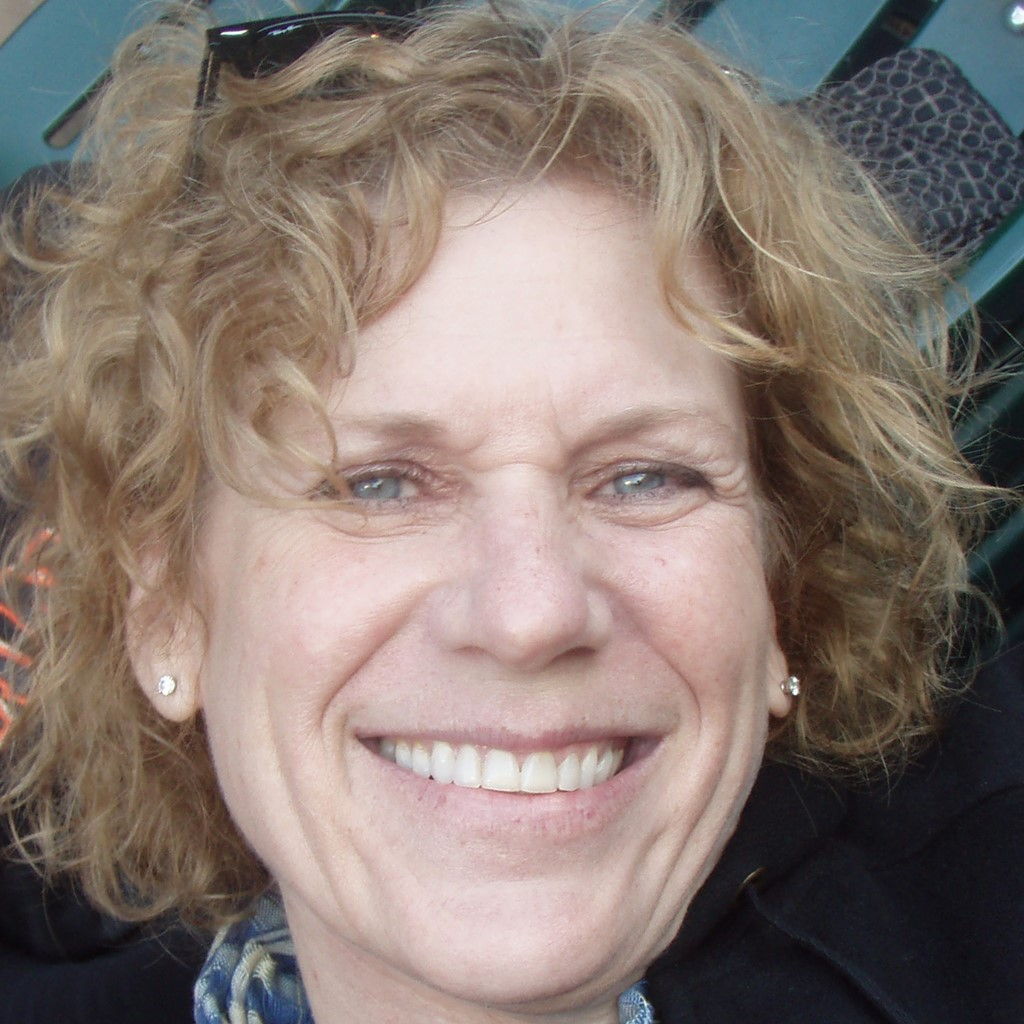sin_mascara: (193, 122, 787, 1008)
